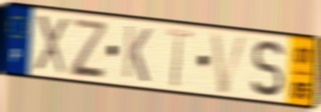K: (121, 23, 153, 85)
S: (249, 38, 286, 99)
T: (165, 26, 194, 90)
V: (208, 31, 251, 96)
X: (33, 12, 70, 77)
Z: (70, 16, 107, 78)
